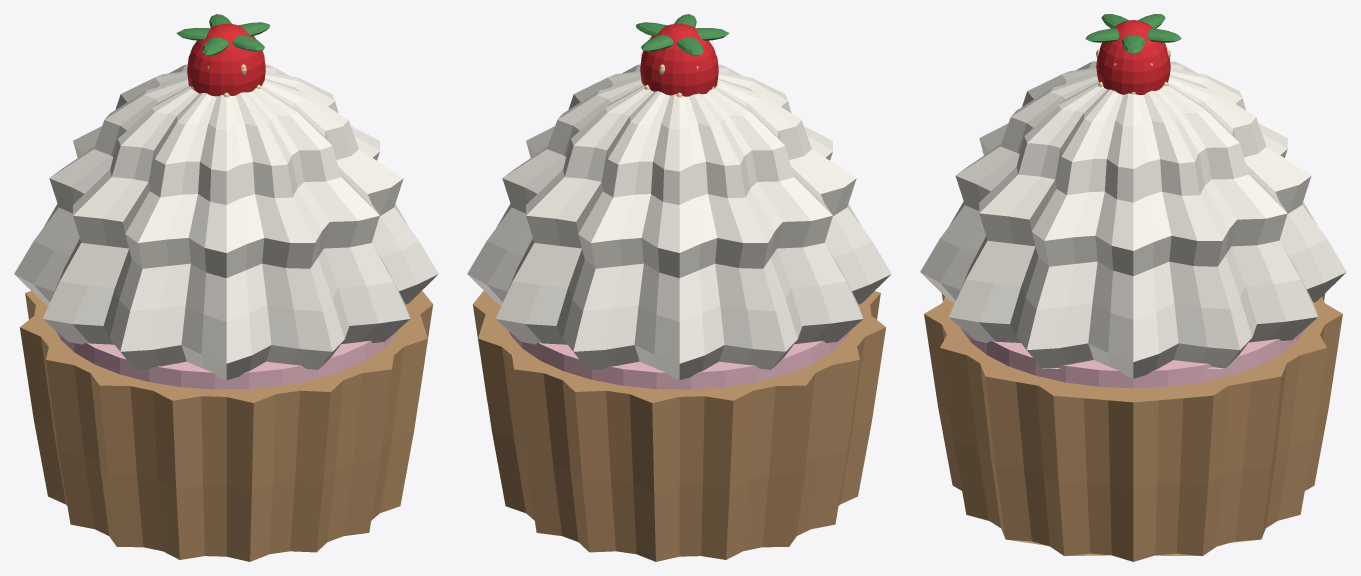
3 views of the same model, side by side, from view 1: azimuth 30°, elevation 25°; view 2: azimuth 150°, elevation 25°; view 3: azimuth 270°, elevation 25° (orthographic).
Visible parts, largest first — view 1: VanillaSwirl, PleatedGoldWrapper, SpongeTop, Berry_Berry; view 2: VanillaSwirl, PleatedGoldWrapper, SpongeTop, Berry_Berry; view 3: VanillaSwirl, PleatedGoldWrapper, SpongeTop, Berry_Berry.
Part boxes in pixels (x1=…): VanillaSwirl: x1=14, y1=64, x2=438, y2=380; PleatedGoldWrapper: x1=20, y1=290, x2=433, y2=561; SpongeTop: x1=56, y1=331, x2=396, y2=389; Berry_Berry: x1=187, y1=23, x2=265, y2=96; VanillaSwirl: x1=467, y1=64, x2=891, y2=380; PleatedGoldWrapper: x1=472, y1=290, x2=885, y2=561; SpongeTop: x1=509, y1=331, x2=849, y2=389; Berry_Berry: x1=640, y1=23, x2=718, y2=96; VanillaSwirl: x1=920, y1=61, x2=1346, y2=378; PleatedGoldWrapper: x1=924, y1=293, x2=1342, y2=561; SpongeTop: x1=961, y1=328, x2=1305, y2=388; Berry_Berry: x1=1096, y1=20, x2=1170, y2=94.
Bounding box in the file's own units: 0.092 × 0.11 × 0.092.
